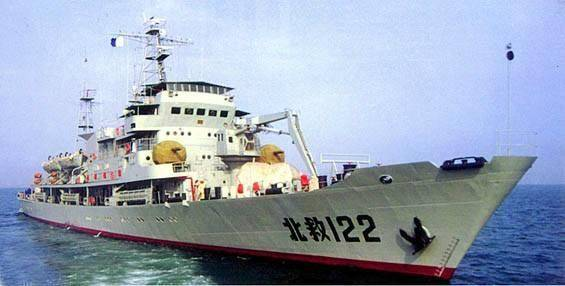warship: (16, 10, 535, 269)
